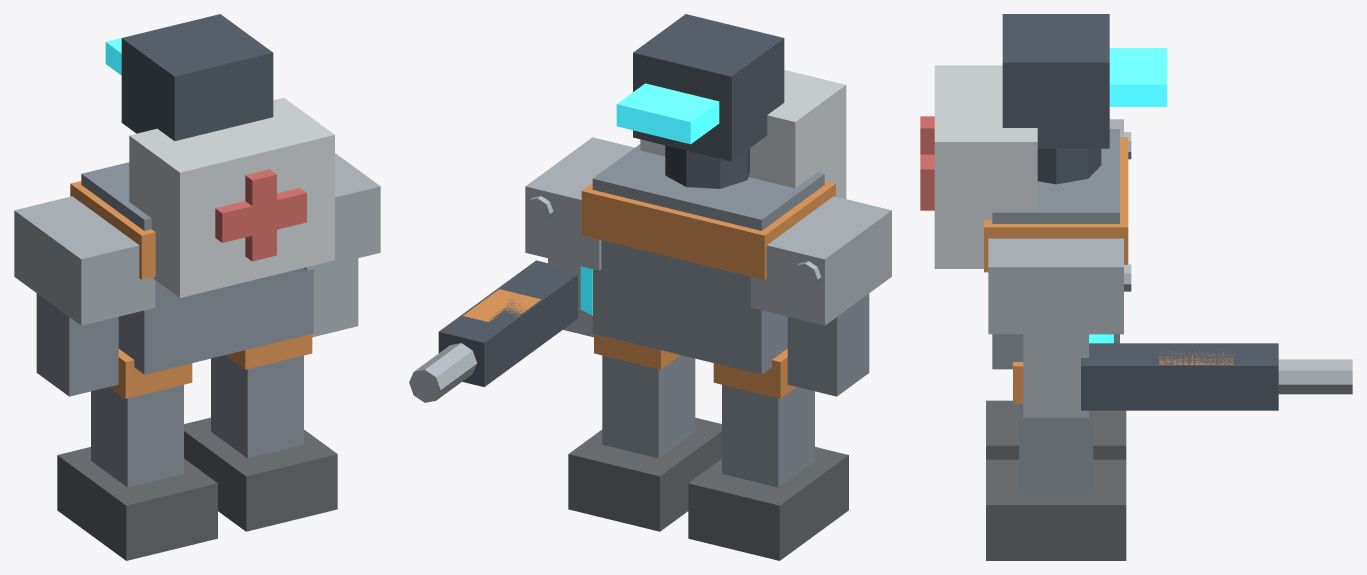
The model's file is medic.glb.
3 views of the same model, side by side, from view 1: azimuth 30°, elevation 25°; view 2: azimuth 150°, elevation 25°; view 3: azimuth 270°, elevation 25° (orthographic).
Parts seen in each view (by area): view 1: detail_018, detail_011, detail_006, detail_008, detail_000, detail_001, detail_003, detail_002, detail_013, detail_009, detail_014, detail_019 (+5 smaller); view 2: detail_006, detail_011, detail_008, detail_000, detail_001, detail_007, detail_018, detail_015, detail_003, detail_002, detail_009, detail_013 (+10 smaller); view 3: detail_018, detail_011, detail_015, detail_009, detail_001, detail_006, detail_003, detail_014, detail_000, detail_012, detail_007, detail_016 (+3 smaller).
Boxes of the visible parts, x1,y1,x2,y2 form: detail_018: (129, 98, 334, 297); detail_011: (121, 14, 273, 141); detail_006: (81, 162, 313, 374); detail_008: (14, 196, 155, 325); detail_000: (57, 447, 217, 560); detail_001: (184, 417, 337, 531); detail_003: (211, 355, 303, 458); detail_002: (91, 385, 183, 487); detail_013: (36, 293, 118, 396); detail_009: (304, 153, 380, 270); detail_014: (312, 258, 358, 337); detail_019: (215, 187, 306, 242); detail_006: (592, 144, 824, 374); detail_011: (633, 14, 784, 161); detail_008: (751, 196, 891, 325); detail_000: (688, 447, 848, 560); detail_001: (568, 417, 721, 531); detail_007: (581, 181, 835, 279); detail_018: (640, 70, 846, 198); detail_015: (438, 260, 577, 386); detail_003: (602, 355, 695, 458); detail_002: (722, 384, 814, 487); detail_009: (525, 137, 634, 270); detail_013: (787, 293, 869, 396); detail_018: (934, 65, 1037, 268); detail_011: (1002, 14, 1109, 148); detail_015: (1081, 343, 1278, 410); detail_009: (988, 238, 1123, 334); detail_001: (986, 459, 1126, 560); detail_006: (992, 129, 1119, 369); detail_003: (1019, 403, 1093, 494); detail_014: (1023, 334, 1088, 417); detail_000: (986, 400, 1126, 459); detail_012: (1109, 48, 1167, 106); detail_007: (984, 137, 1128, 272); detail_016: (1278, 359, 1352, 394).
Size of the model in its own units: 0.88 by 1.26 by 1.05.
